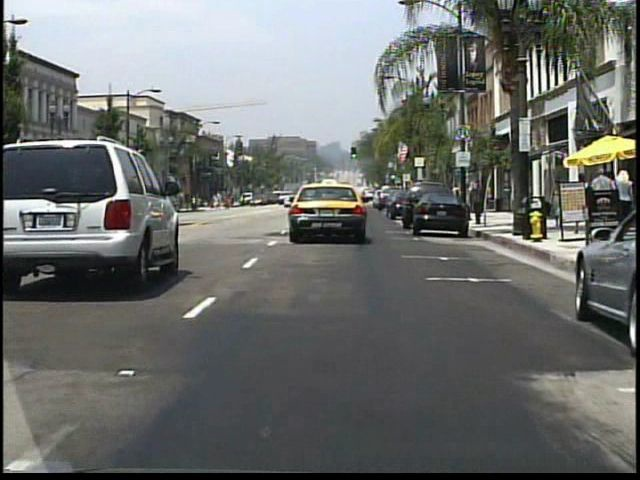person: (606, 168, 631, 227), (588, 166, 614, 220), (573, 170, 592, 230), (544, 182, 562, 228), (239, 194, 247, 209)
